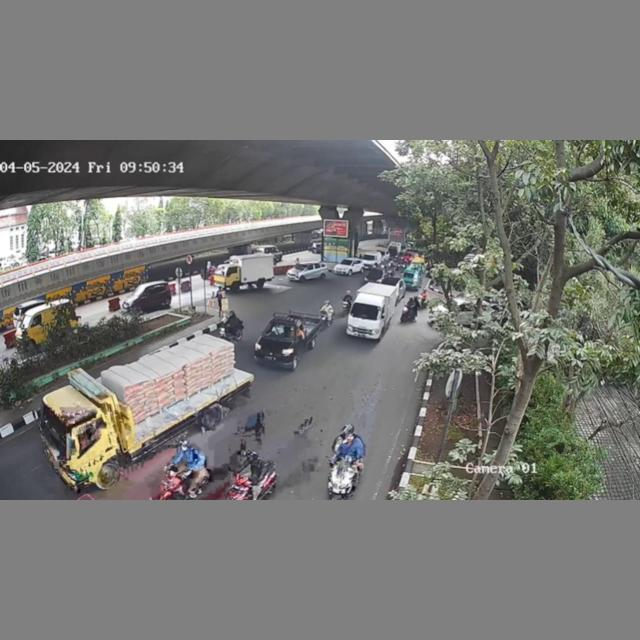windshield: (348, 303, 381, 321), (263, 322, 295, 340)
